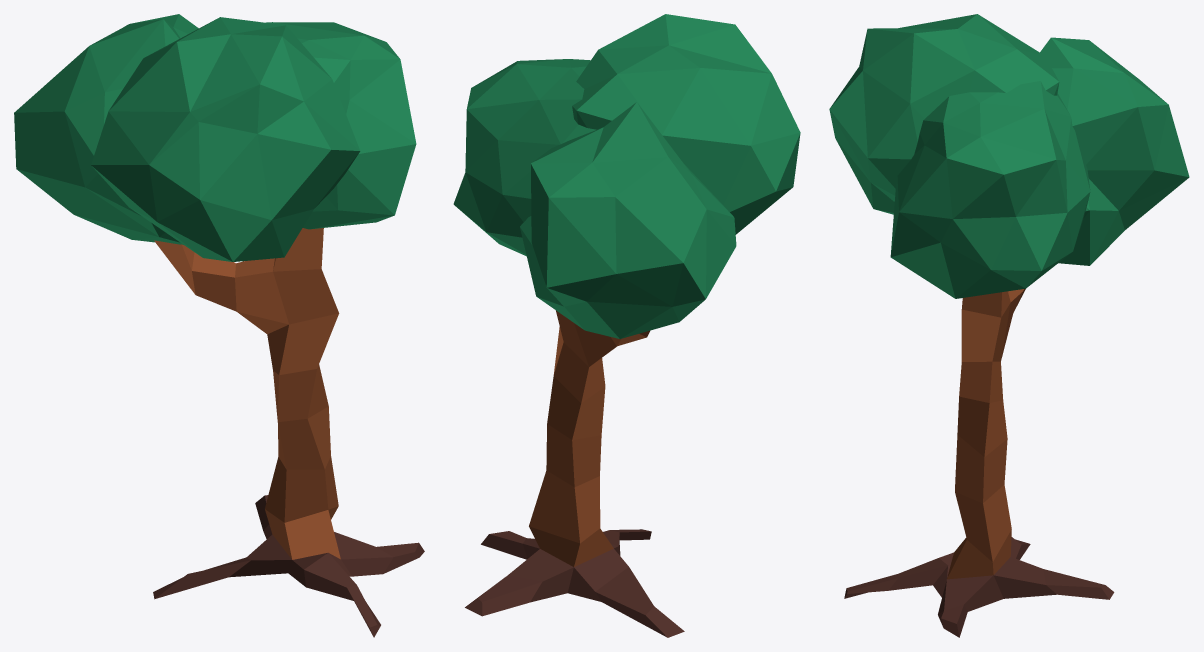
File: Tree1.fbx
The picture shows the model from 3 angles, left to right: view 1: azimuth 30°, elevation 25°; view 2: azimuth 150°, elevation 25°; view 3: azimuth 270°, elevation 25°; orthographic projection. The views are drawn at different scales.
Visible parts, largest first — view 1: Tree1_Leaves2, Tree1_Trunk, Tree1_Leaves3, Tree1_Leaves1, Tree1_Branch; view 2: Tree1_Leaves3, Tree1_Leaves2, Tree1_Trunk, Tree1_Leaves1, Tree1_Branch; view 3: Tree1_Leaves1, Tree1_Trunk, Tree1_Leaves2, Tree1_Leaves3.
Boxes of the visible parts, <box> form: Tree1_Leaves2: <box>91,17,360,261</box>; Tree1_Trunk: <box>153,228,424,637</box>; Tree1_Leaves3: <box>14,14,198,244</box>; Tree1_Leaves1: <box>266,22,416,229</box>; Tree1_Branch: <box>154,240,288,334</box>; Tree1_Leaves3: <box>520,102,736,338</box>; Tree1_Leaves2: <box>572,14,800,234</box>; Tree1_Trunk: <box>465,310,684,637</box>; Tree1_Leaves1: <box>453,59,596,256</box>; Tree1_Branch: <box>574,323,649,366</box>; Tree1_Leaves1: <box>890,81,1090,298</box>; Tree1_Trunk: <box>844,291,1114,637</box>; Tree1_Leaves2: <box>829,14,1059,214</box>; Tree1_Leaves3: <box>1037,37,1189,265</box>.
Bounding box in the file's own units: 436 × 414 × 722.
